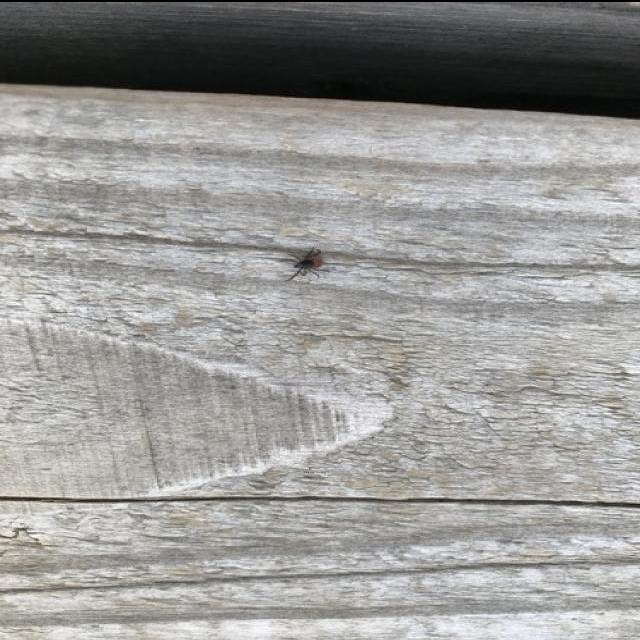Ixodes Ricinus-F: (285, 243, 329, 282)
